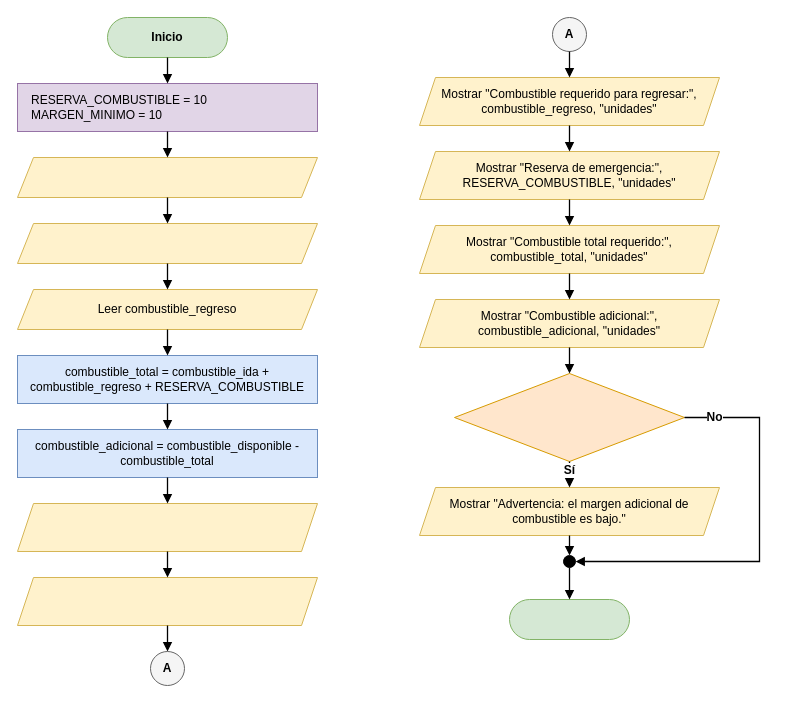
Some shapes in this 786 by 703 pixel diagram are drawn without their labels. The shapes that lost their labels are listed below. From the top down, each one's centre as x and y in pixels, then its label:
point 167,177: Leer combustible_disponible
point 167,243: Leer combustible_ida
point 569,417: combustible_adicional < MARGEN_MINIMO
point 167,527: Mostrar "Combustible disponible:", combustible_disponible, "unidades"
point 167,601: Mostrar "Combustible requerido para llegar:", combustible_ida, "unidades"
point 569,619: Fin
